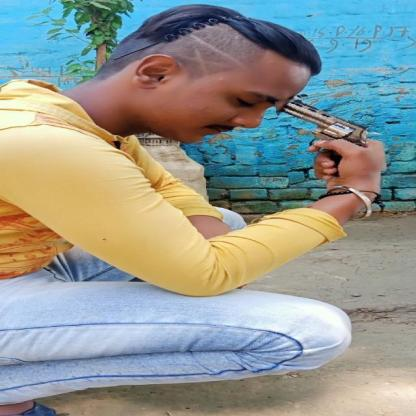handgun: (278, 88, 389, 184)
